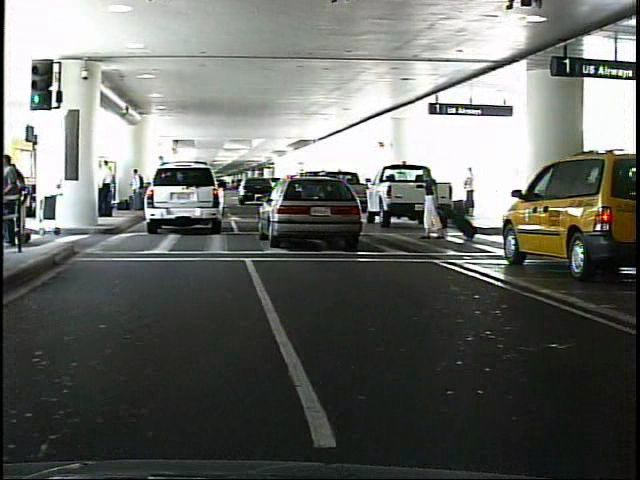person: (421, 164, 444, 242), (100, 157, 117, 218), (136, 166, 150, 216), (472, 163, 484, 208)
